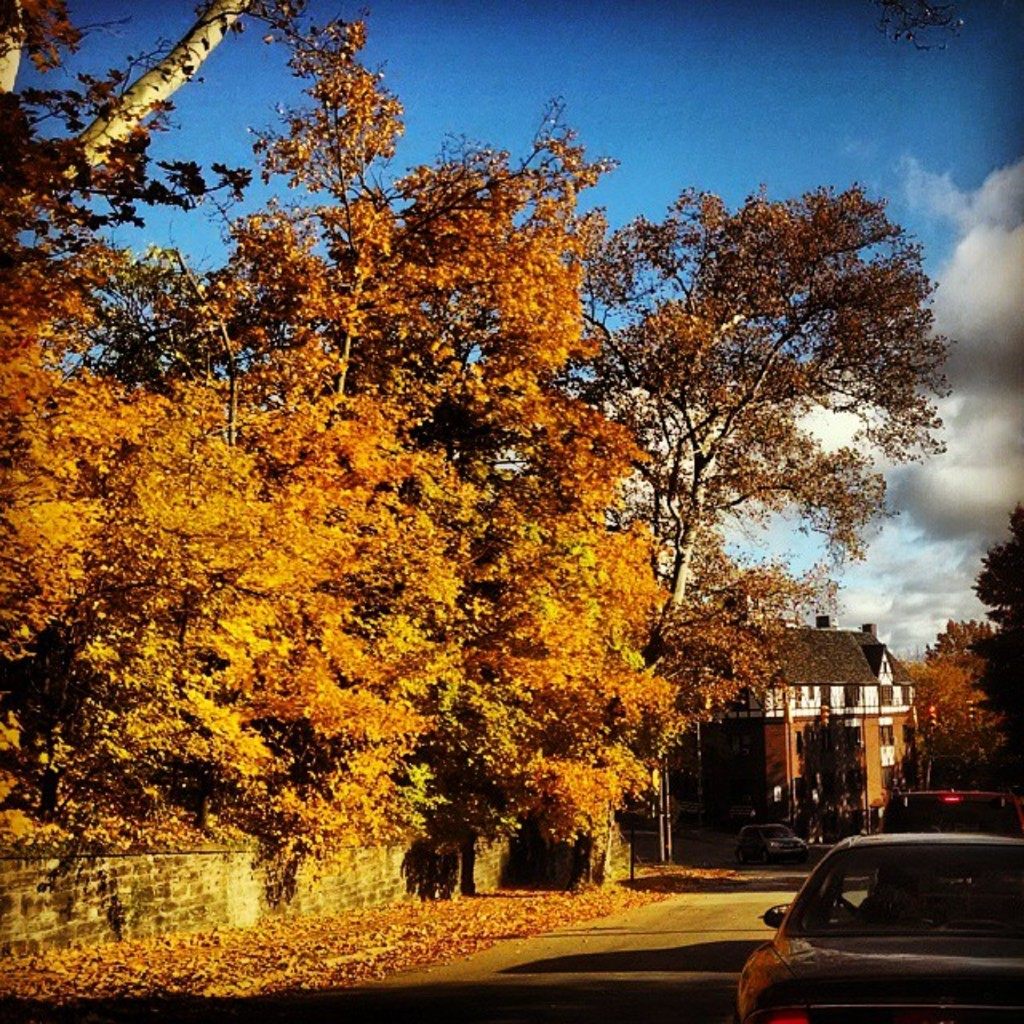mobil: (730, 827, 810, 859)
